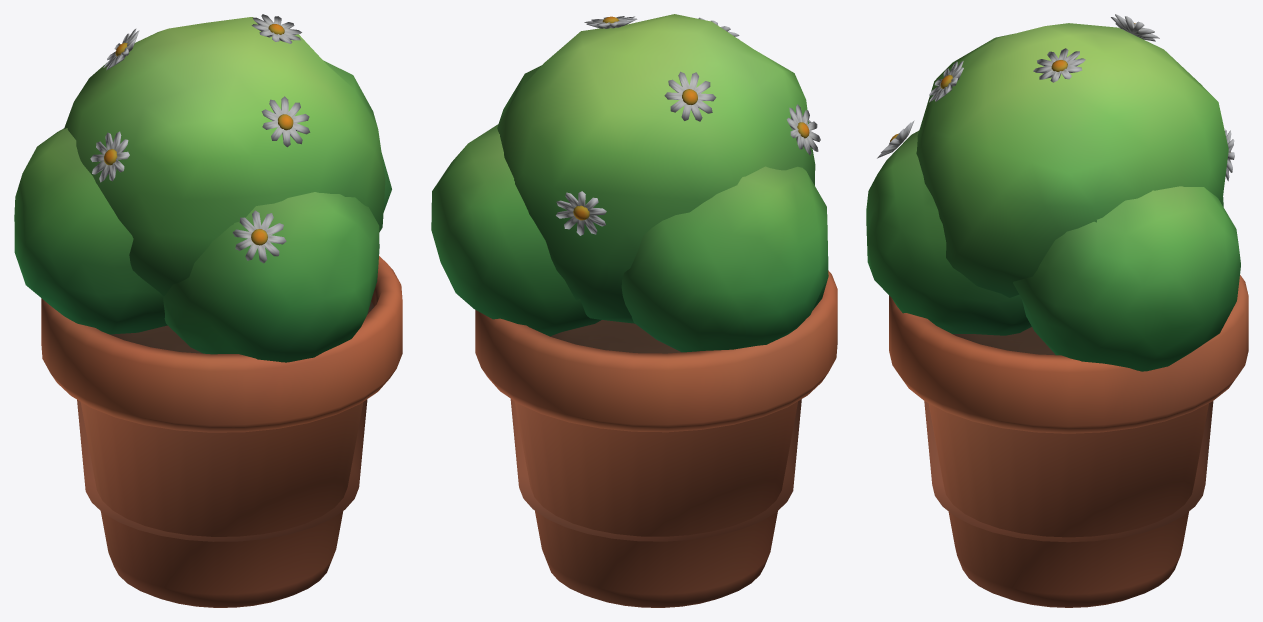
Rendered from flower_pot.glb.
3 renders of one model, left to right at view 1: azimuth 30°, elevation 25°; view 2: azimuth 150°, elevation 25°; view 3: azimuth 270°, elevation 25°, orthographic.
Visible parts, largest first — view 1: flower_pot; view 2: flower_pot; view 3: flower_pot.
Boxes of the visible parts, x1=… form: flower_pot: x1=14, y1=14, x2=402, y2=607; flower_pot: x1=431, y1=14, x2=837, y2=607; flower_pot: x1=866, y1=14, x2=1248, y2=607.
Size of the model in its own units: 0.3626 by 0.5167 by 0.3359.
